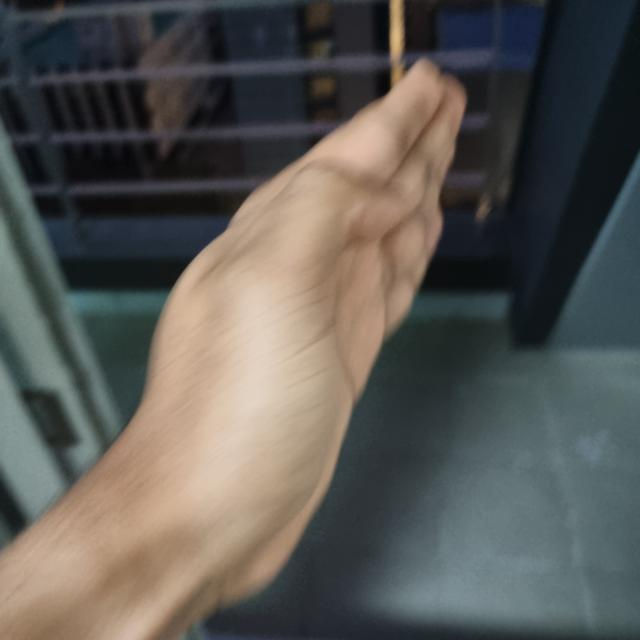Paper: (126, 69, 462, 601)
